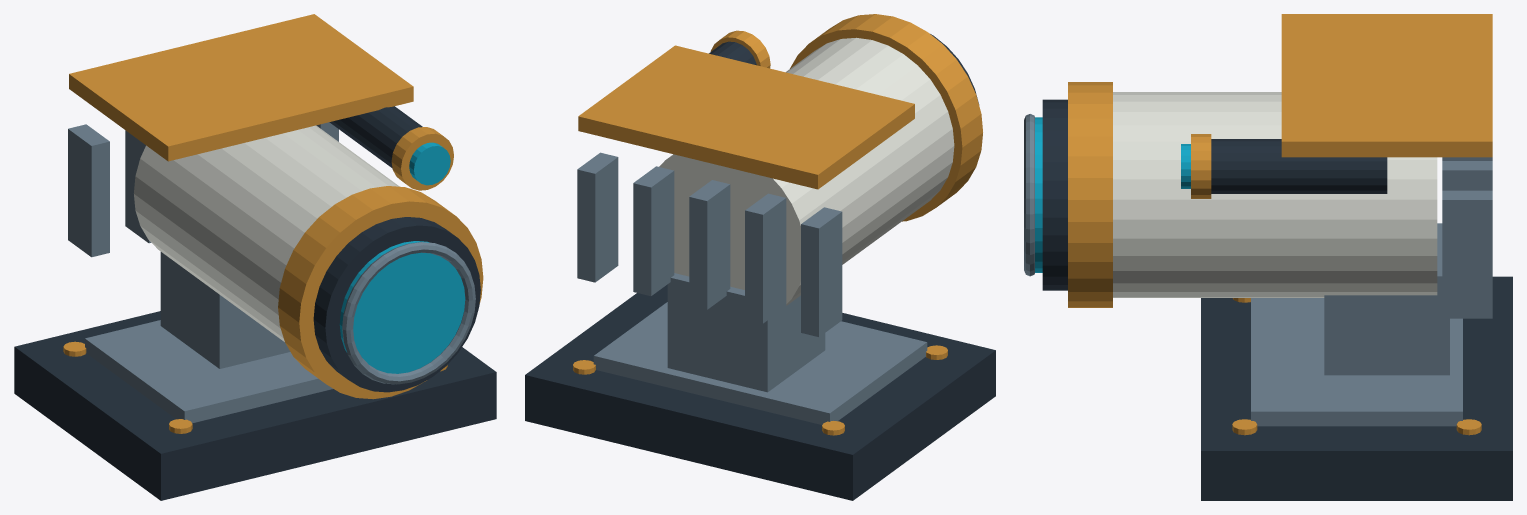
Rendered from 03_Camara_Alta_Resolucion.obj.
3 views of the same model, side by side, from view 1: azimuth 30°, elevation 25°; view 2: azimuth 150°, elevation 25°; view 3: azimuth 270°, elevation 25° (orthographic). The views are drawn at different scales.
Parts seen in each view (by area): view 1: Camara_de_Alta_Resolucion; view 2: Camara_de_Alta_Resolucion; view 3: Camara_de_Alta_Resolucion.
Boxes of the visible parts, x1,y1,x2,y2 form: Camara_de_Alta_Resolucion: (14,14,496,500); Camara_de_Alta_Resolucion: (525,14,995,500); Camara_de_Alta_Resolucion: (1024,14,1512,500).
Bounding box in the file's own units: 0.82 × 0.7375 × 0.972.
